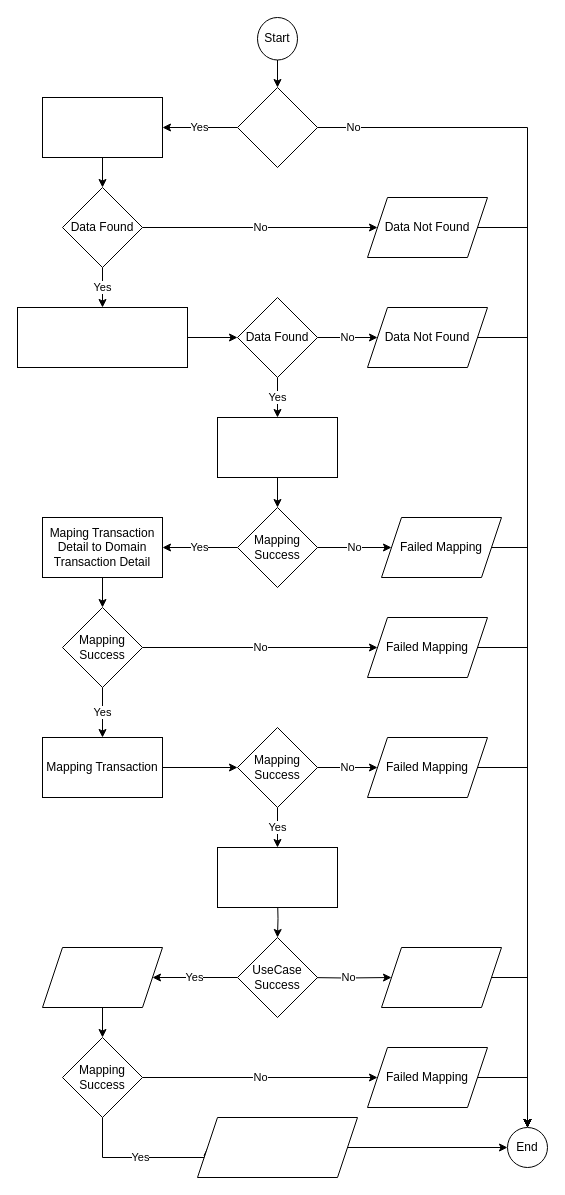
Image size: 565x1195. Some labels were removed from this diagram. Each missing label, with the centre of its shape:
"Connect Database" belongs at (277,127).
"Failed UseCase" belongs at (441,977).
"HTTP Mapping Response" belongs at (102,977).
"Maping Item to Domain item" belongs at (277,447).
"Send Query Select Transaction" belongs at (102,127).
"Send Query Select Transaction Detail JOIN Item By ID from Repository" belongs at (102,337).
"Status Code : 200 Data TransactionDetail" belongs at (277,1147).
"UseCase Transaction" belongs at (277,877).
